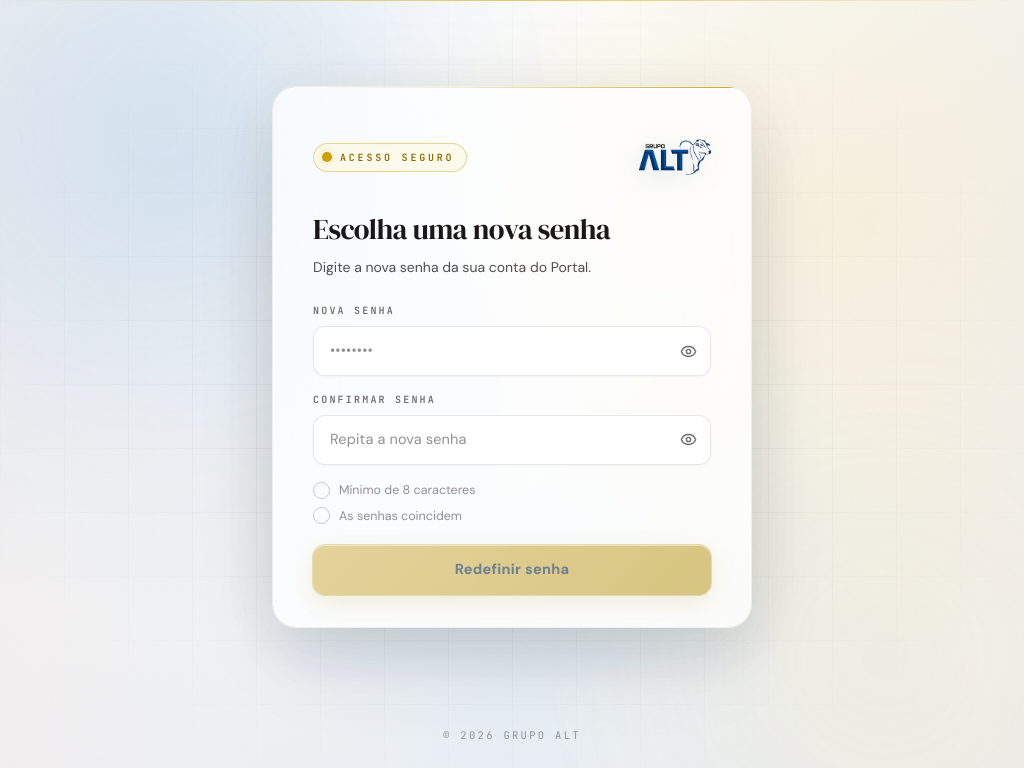
Test: /redefinir-senha › 400 do backend mostra o detail (token expirado)
Type "senha-valida-123" into the password field labelled "Nova senha".
click(490, 351); type("senha-valida-123")  # box 314,327 -> 666,375
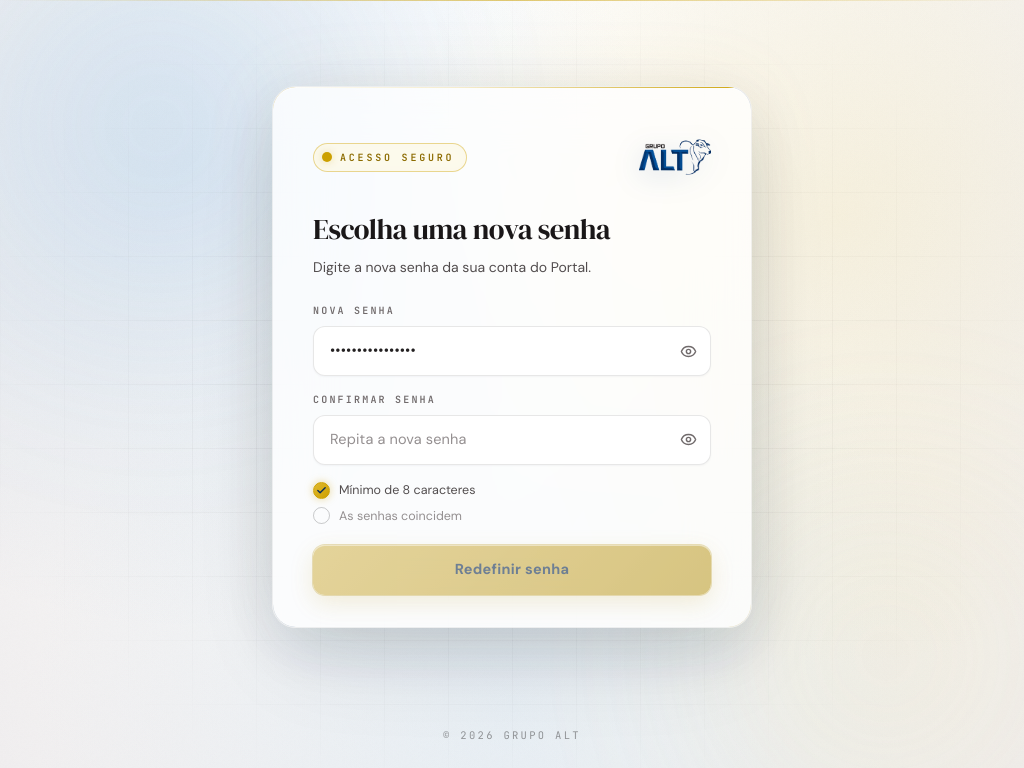
Type "senha-valida-123" into the password field labelled "Confirmar senha".
click(490, 440); type("senha-valida-123")  # box 314,416 -> 666,464
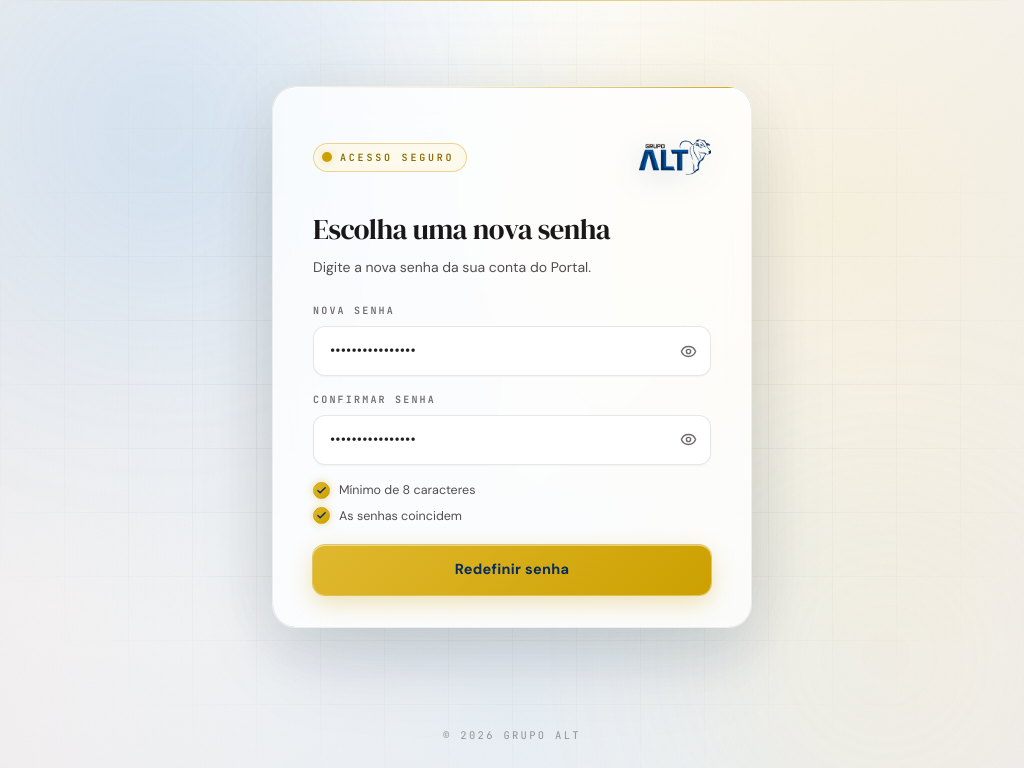
Click the button "Redefinir senha".
click(512, 570)  # box 313,545 -> 711,595
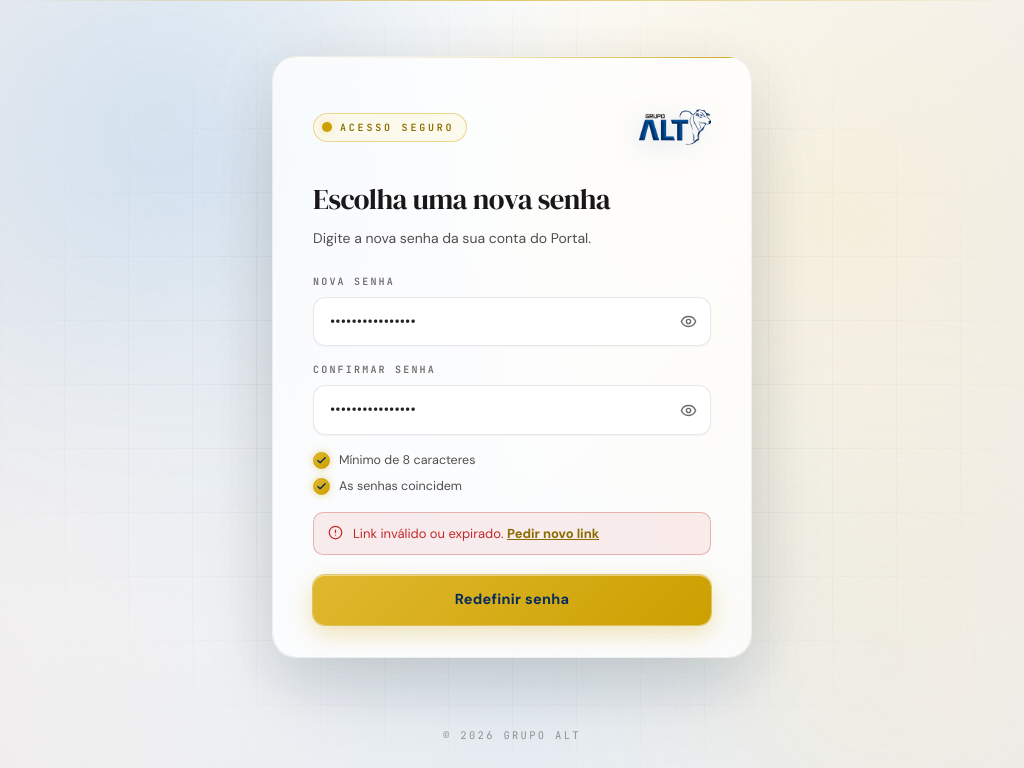
Now the message shows "Link inválido ou expirado", box 353,525 -> 504,542
